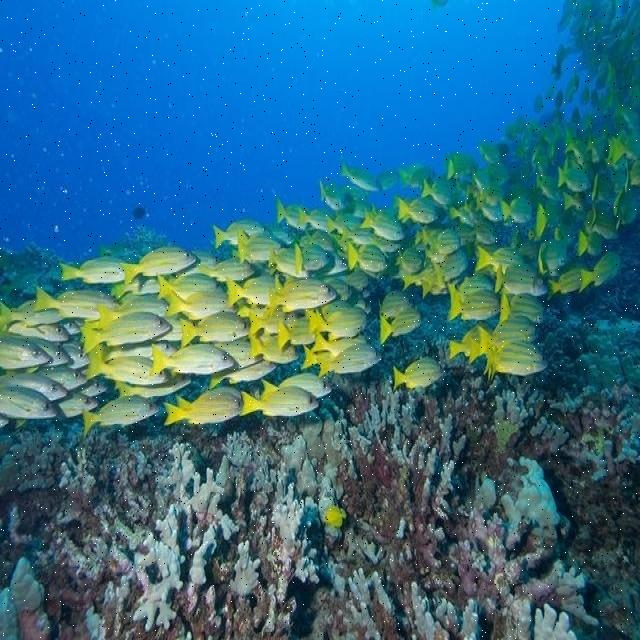fish: (79, 313, 171, 351), (88, 344, 168, 386), (240, 378, 322, 418), (34, 286, 121, 321), (180, 311, 255, 349), (267, 277, 340, 316), (121, 249, 202, 284), (82, 398, 160, 433), (152, 345, 239, 376), (160, 394, 243, 424), (318, 342, 386, 378), (447, 284, 503, 322), (484, 344, 548, 374), (393, 359, 450, 392), (58, 256, 125, 284), (169, 292, 238, 319), (310, 309, 369, 340), (0, 388, 57, 420), (0, 334, 53, 367), (495, 266, 550, 294), (224, 277, 279, 305), (361, 206, 403, 240), (379, 311, 420, 342), (295, 243, 330, 271)
reefs: (0, 228, 639, 639)
